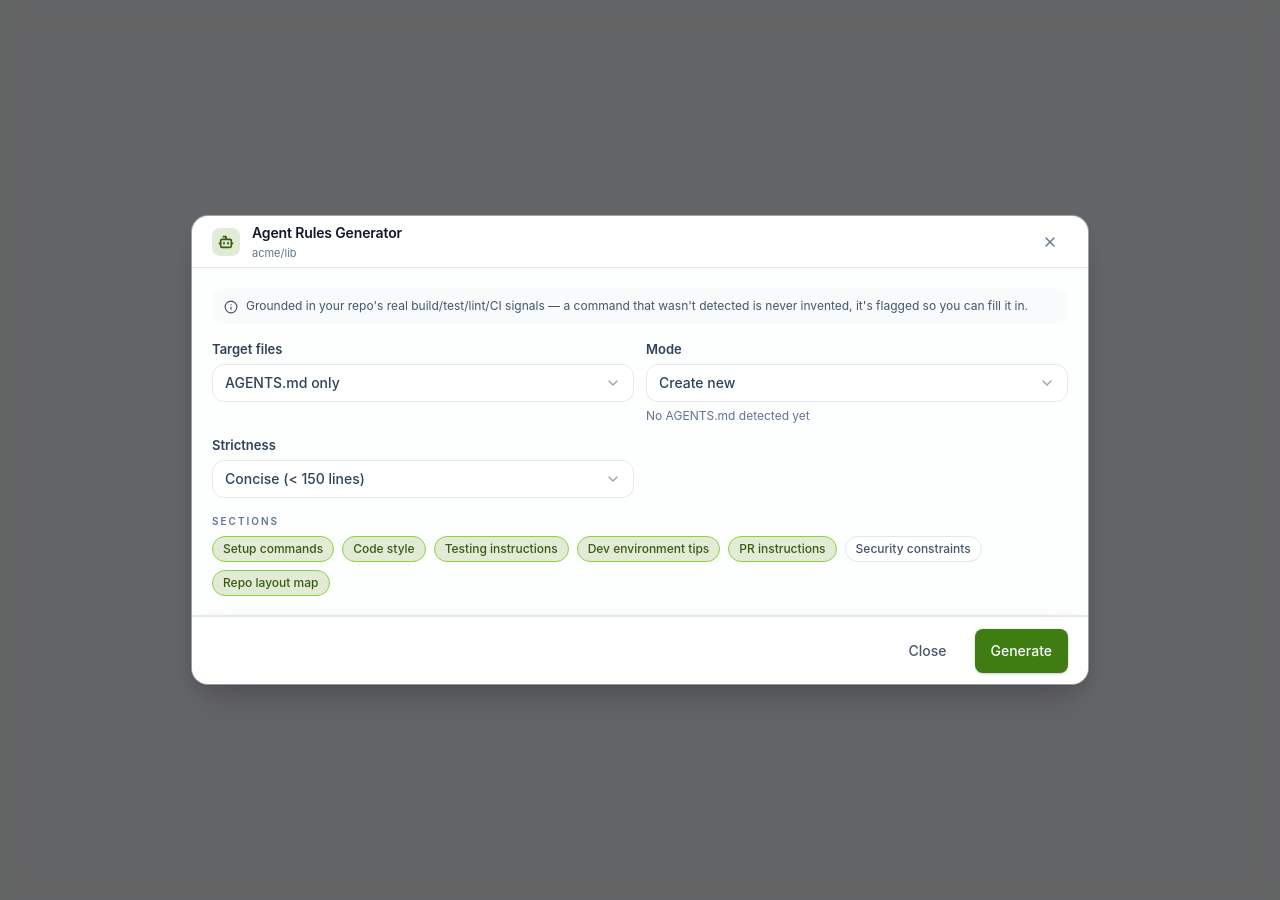
Test: AgentRulesModal — deterministic no-AI fallback (Addendum 6b.2) › labels the output as a deterministic template and explains why, never presenting it as AI-written
Click the button "Generate" at x=1021, y=650, box [974,628,1068,672]
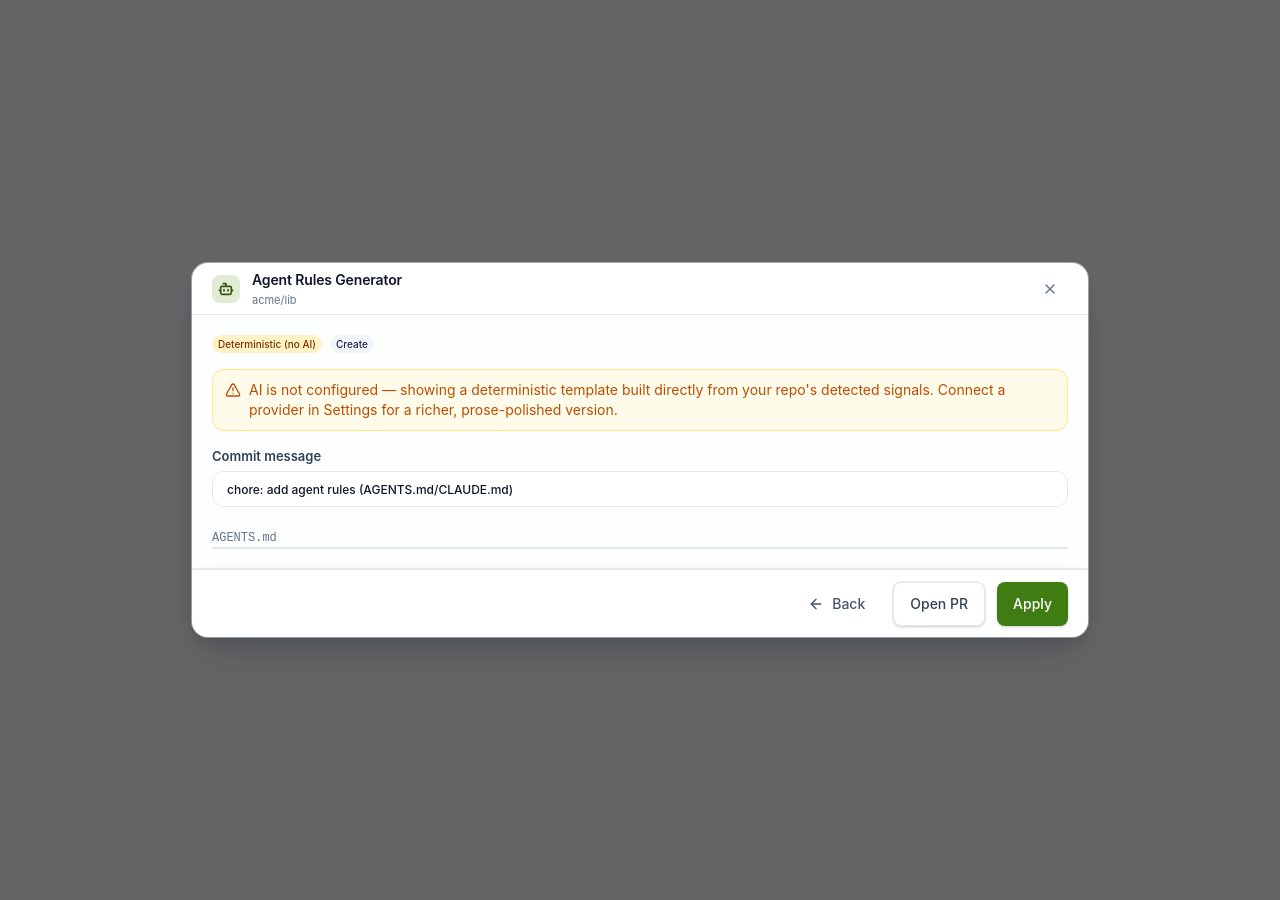
Now the text "Deterministic (no AI)" is shown, box [212,335,322,353]
Now the text "AI is not configured" is shown, box [249,381,1006,418]
